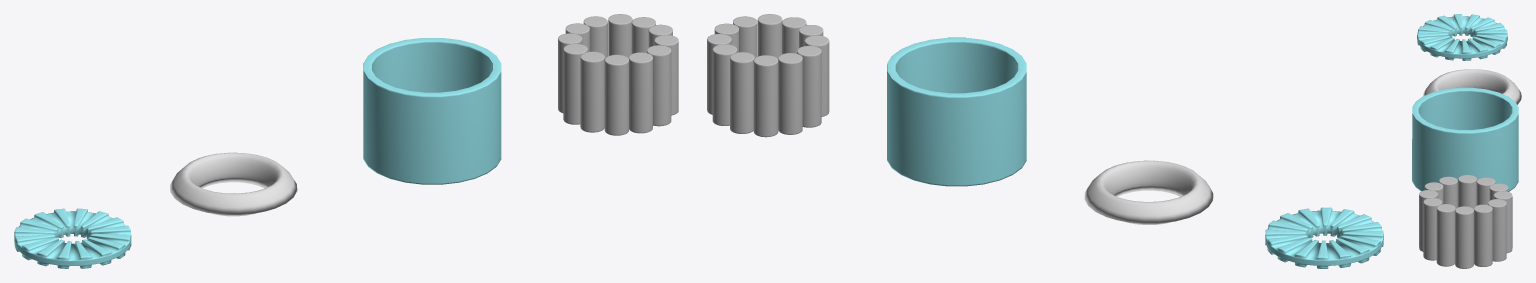
Rendered from bea.gltf.
3 renders of one model, left to right at view 1: azimuth 30°, elevation 25°; view 2: azimuth 150°, elevation 25°; view 3: azimuth 270°, elevation 25°, orthographic. The views are drawn at different scales.
Parts seen in each view (by area): view 1: roller bearing cov; view 2: roller bearing cov; view 3: roller bearing cov.
Boxes of the visible parts, left/top/right/bottom form: roller bearing cov: left=14, top=14, right=678, bottom=268; roller bearing cov: left=707, top=14, right=1383, bottom=268; roller bearing cov: left=1412, top=14, right=1521, bottom=268.
Bounding box in the file's own units: 0.6744 × 0.0882 × 0.1273.
